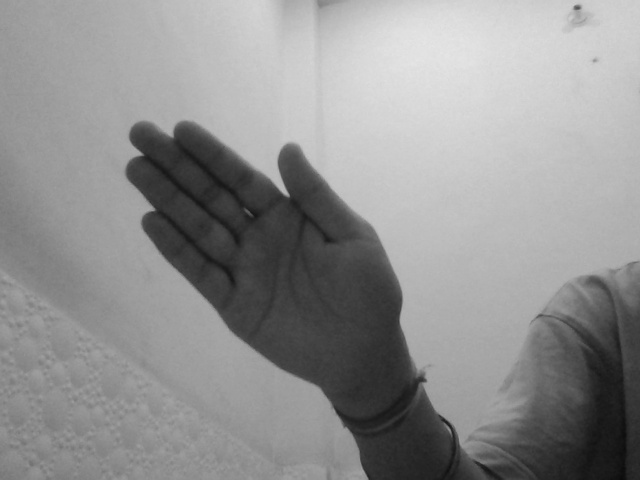Hello: (118, 117, 410, 397)
